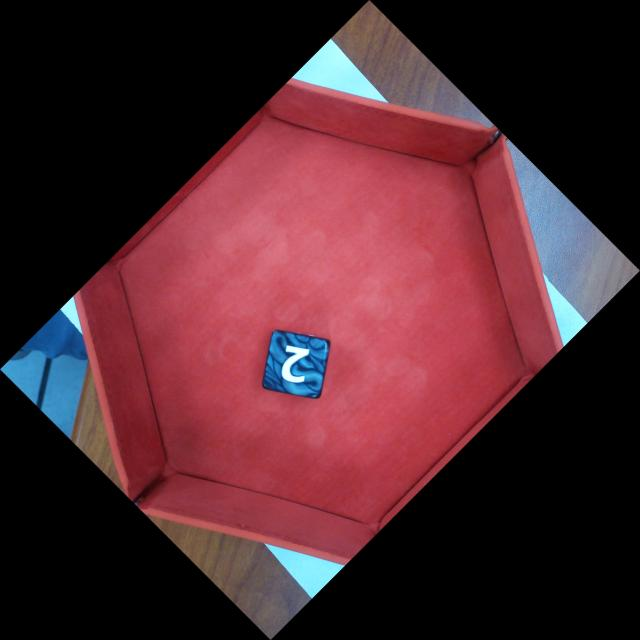dice: (263, 329, 330, 400)
